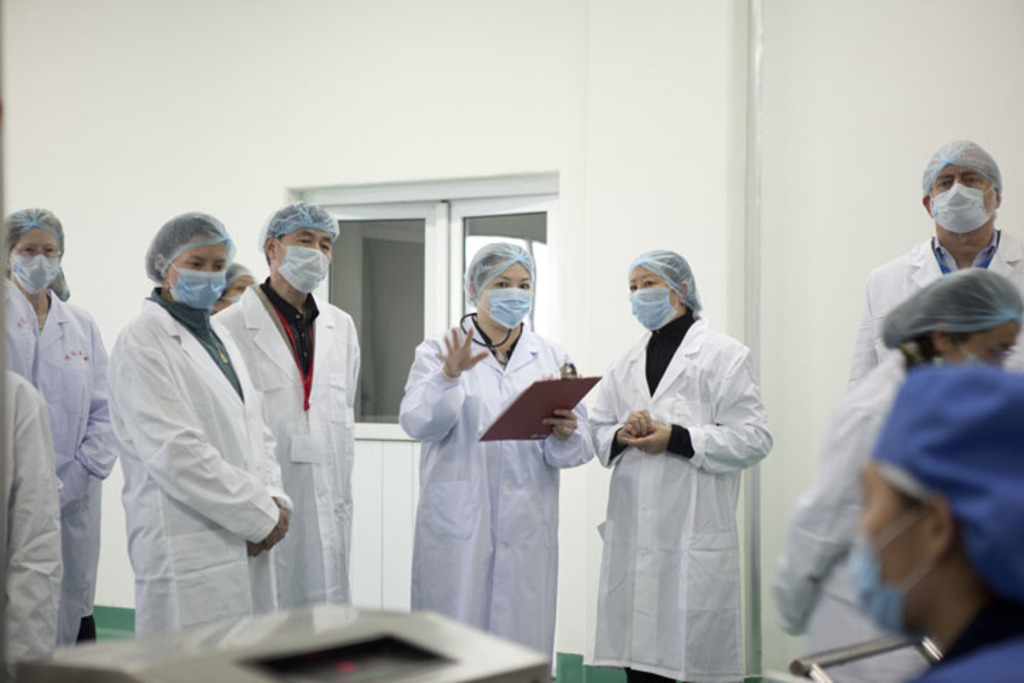Person: (0, 138, 1023, 683)
